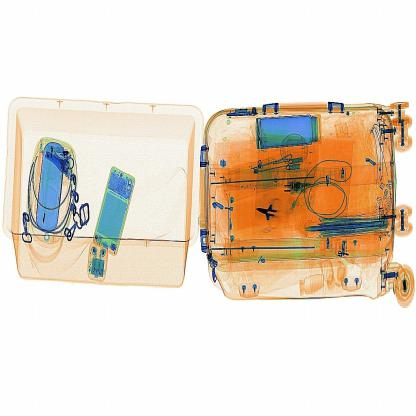gun: (252, 190, 294, 235)
